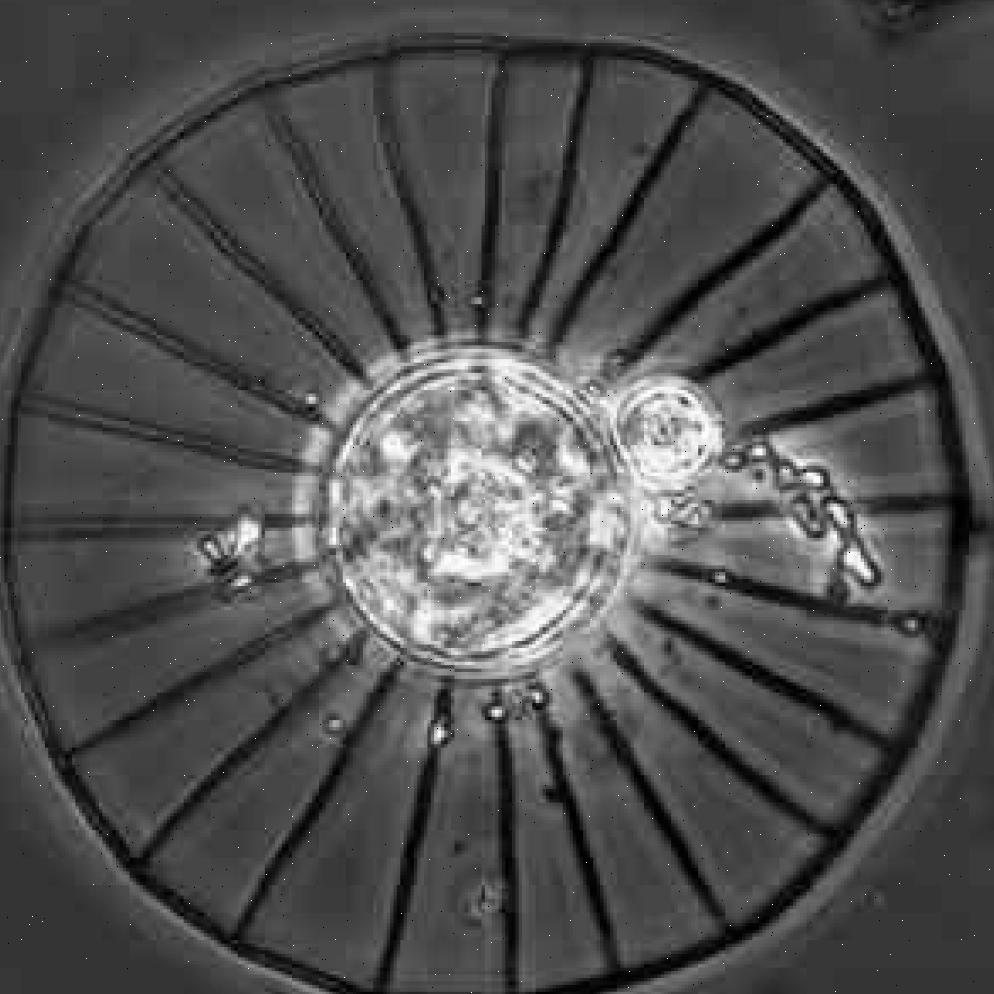planktoniella_sol: (0, 39, 962, 994)
